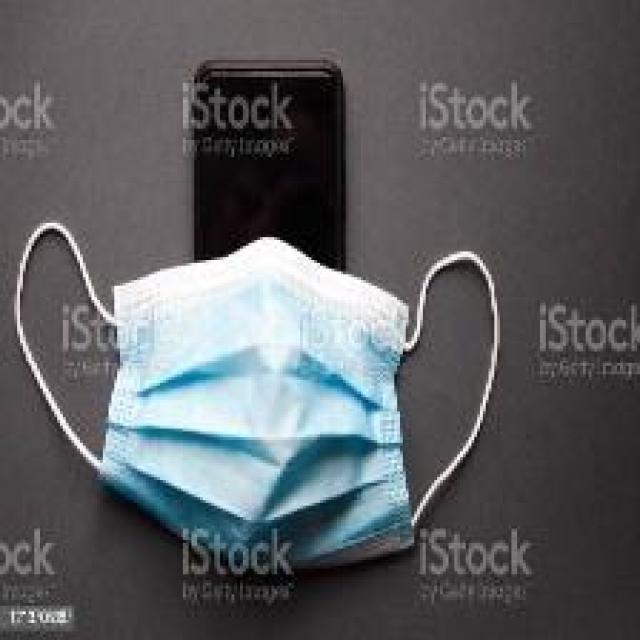Mask: (0, 162, 536, 628)
